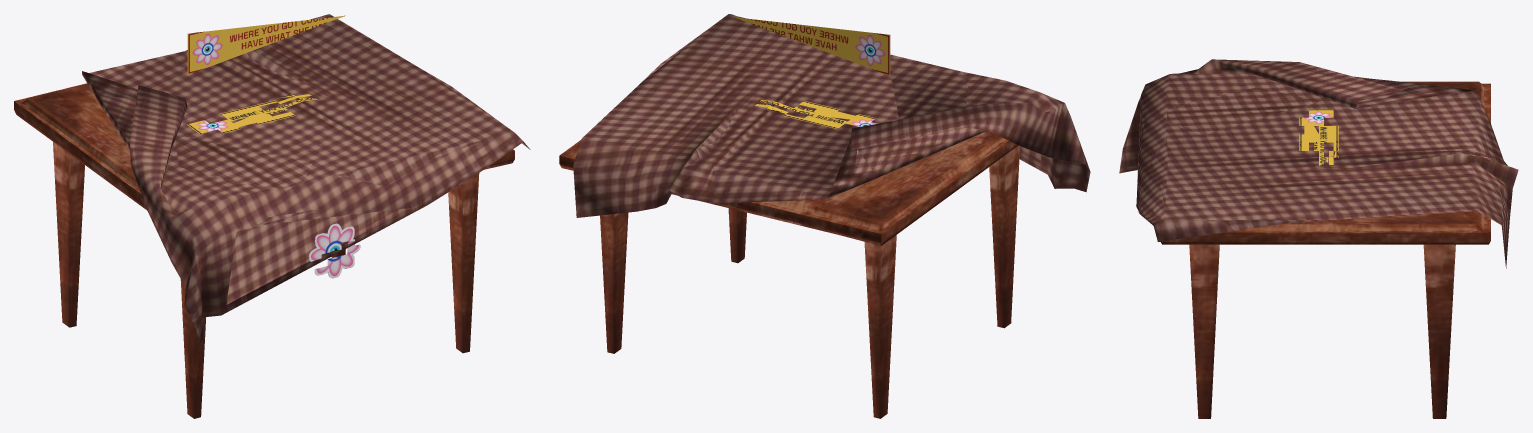
The model's file is katz_table.glb.
3 views of the same model, side by side, from view 1: azimuth 30°, elevation 25°; view 2: azimuth 150°, elevation 25°; view 3: azimuth 270°, elevation 25° (orthographic). The views are drawn at different scales.
Visible parts, largest first — view 1: dining_table, add_lbl_b4576d7ed5.png, stk_lbl_e090fd4e67.png, stk_eyeflower_die.png; view 2: dining_table, add_lbl_b4576d7ed5.png, stk_lbl_e090fd4e67.png; view 3: dining_table, stk_lbl_e090fd4e67.png.
Boxes of the visible parts, x1=… form: dining_table: x1=14, y1=14, x2=530, y2=418; add_lbl_b4576d7ed5.png: x1=187, y1=15, x2=345, y2=74; stk_lbl_e090fd4e67.png: x1=187, y1=87, x2=329, y2=133; stk_eyeflower_die.png: x1=309, y1=223, x2=360, y2=278; dining_table: x1=559, y1=14, x2=1090, y2=418; add_lbl_b4576d7ed5.png: x1=733, y1=17, x2=890, y2=75; stk_lbl_e090fd4e67.png: x1=729, y1=100, x2=877, y2=128; dining_table: x1=1119, y1=59, x2=1518, y2=418; stk_lbl_e090fd4e67.png: x1=1299, y1=109, x2=1338, y2=165.
Bounding box in the file's own units: 1.35 × 1.17 × 1.39.
5 materials, 5 textured.
